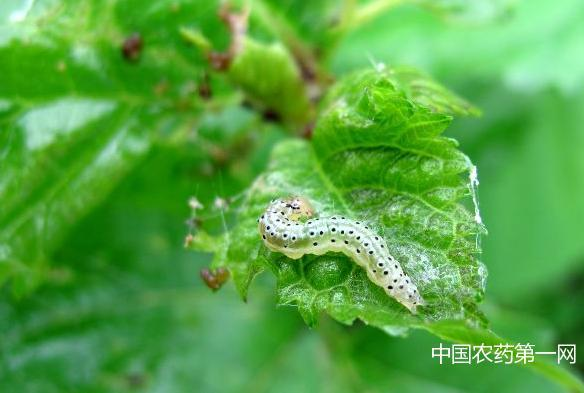caterpillars: (246, 178, 437, 319)
